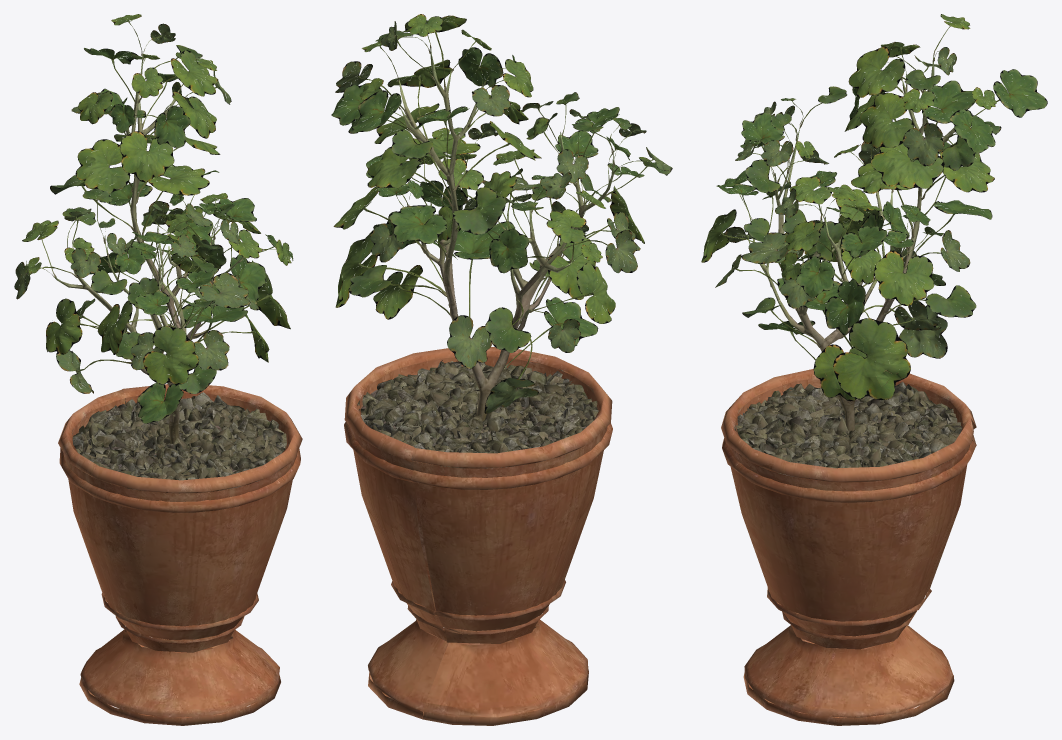
The picture shows the model from 3 angles, left to right: view 1: azimuth 30°, elevation 25°; view 2: azimuth 150°, elevation 25°; view 3: azimuth 270°, elevation 25°; orthographic projection. The views are drawn at different scales.
Visible parts, largest first — view 1: potted_plant_01_pot, potted_plant_01_leaves, potted_plant_01_pebbles, potted_plant_01_stem; view 2: potted_plant_01_pot, potted_plant_01_leaves, potted_plant_01_pebbles, potted_plant_01_stem; view 3: potted_plant_01_pot, potted_plant_01_leaves, potted_plant_01_pebbles, potted_plant_01_stem.
Part boxes in pixels (x1,y1,x2,y2): potted_plant_01_pot: (58,384,302,725); potted_plant_01_leaves: (14,14,293,423); potted_plant_01_pebbles: (72,392,288,493); potted_plant_01_stem: (54,54,244,443); potted_plant_01_pot: (344,347,612,725); potted_plant_01_leaves: (331,14,672,413); potted_plant_01_pebbles: (357,360,598,468); potted_plant_01_stem: (399,48,613,421); potted_plant_01_pot: (721,369,976,725); potted_plant_01_leaves: (701,14,1047,401); potted_plant_01_pebbles: (734,382,962,477); potted_plant_01_stem: (752,55,967,430).
Bounding box in the file's own units: 0.5872 × 1.34 × 0.6335.
Materials: 2 (2 with a texture image).
